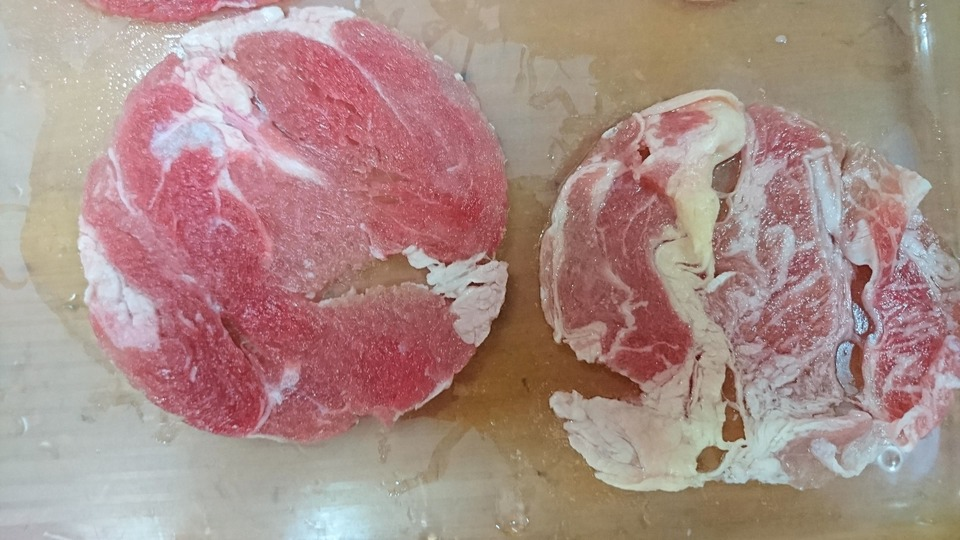restructured meat: (55, 30, 518, 426), (534, 74, 960, 491)
